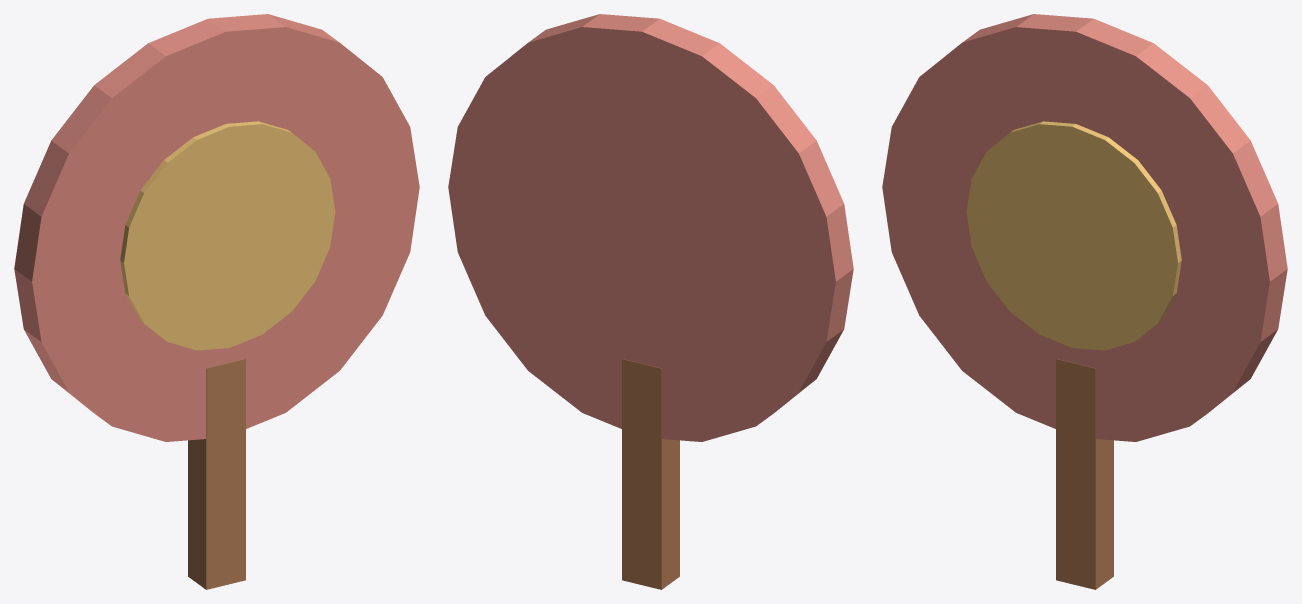
File: prop_kipas_lv1.fbx
3 views of the same model, side by side, from view 1: azimuth 30°, elevation 25°; view 2: azimuth 150°, elevation 25°; view 3: azimuth 330°, elevation 25° (orthographic).
Visible parts, largest first — view 1: prop_kipas_lv1; view 2: prop_kipas_lv1; view 3: prop_kipas_lv1.
Part boxes in pixels (<box>): prop_kipas_lv1: <box>14,14,419,589</box>; prop_kipas_lv1: <box>448,14,853,589</box>; prop_kipas_lv1: <box>882,14,1287,589</box>.
Size of the model in its own units: 44 by 60 by 4.3.
1 material, 1 textured.
